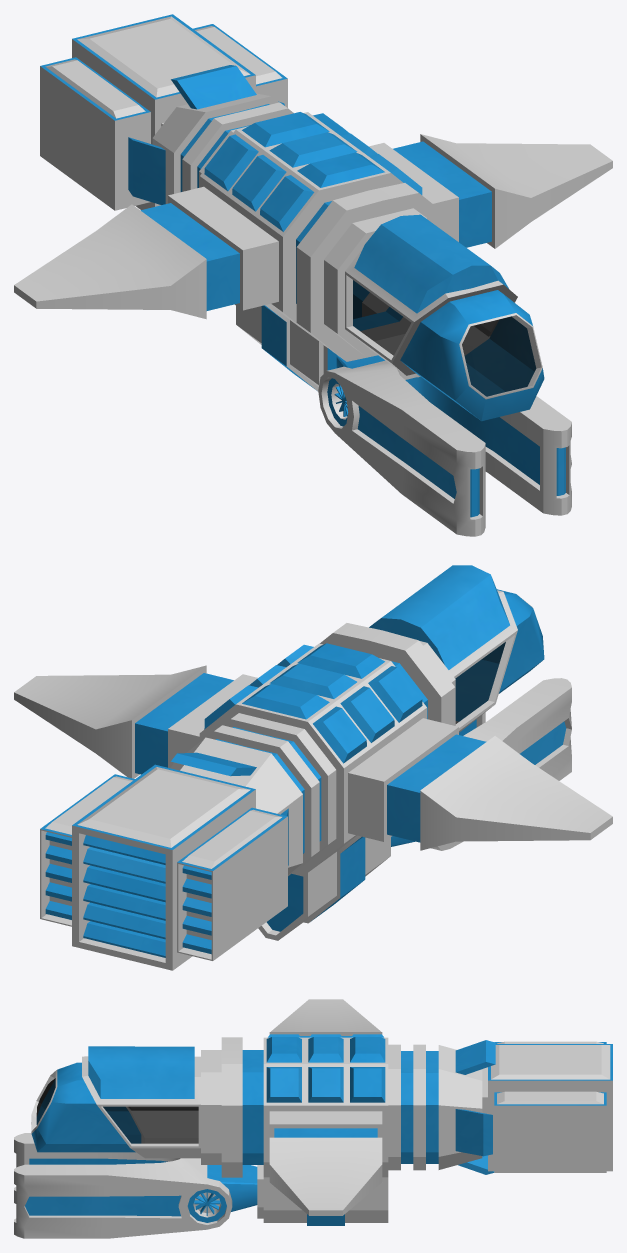
The model's file is BED.fbx.
3 renders of one model, top to bottom at view 1: azimuth 30°, elevation 25°; view 2: azimuth 150°, elevation 25°; view 3: azimuth 270°, elevation 25°, orthographic. The views are drawn at different scales.
Parts seen in each view (by area): view 1: BED; view 2: BED; view 3: BED.
Part boxes in pixels (x1,y1,x2,y2): BED: (14,14,612,536); BED: (14,565,612,970); BED: (14,999,612,1238).
Bounding box in the file's own units: 8 × 3.15 × 9.59.
